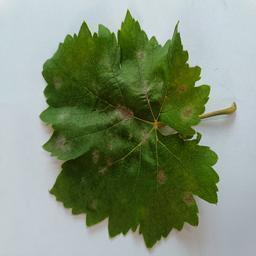Powdery-Mildew: (110, 105, 137, 130), (54, 133, 75, 159), (171, 79, 188, 95), (180, 103, 197, 119), (151, 167, 168, 183), (53, 109, 69, 125)
